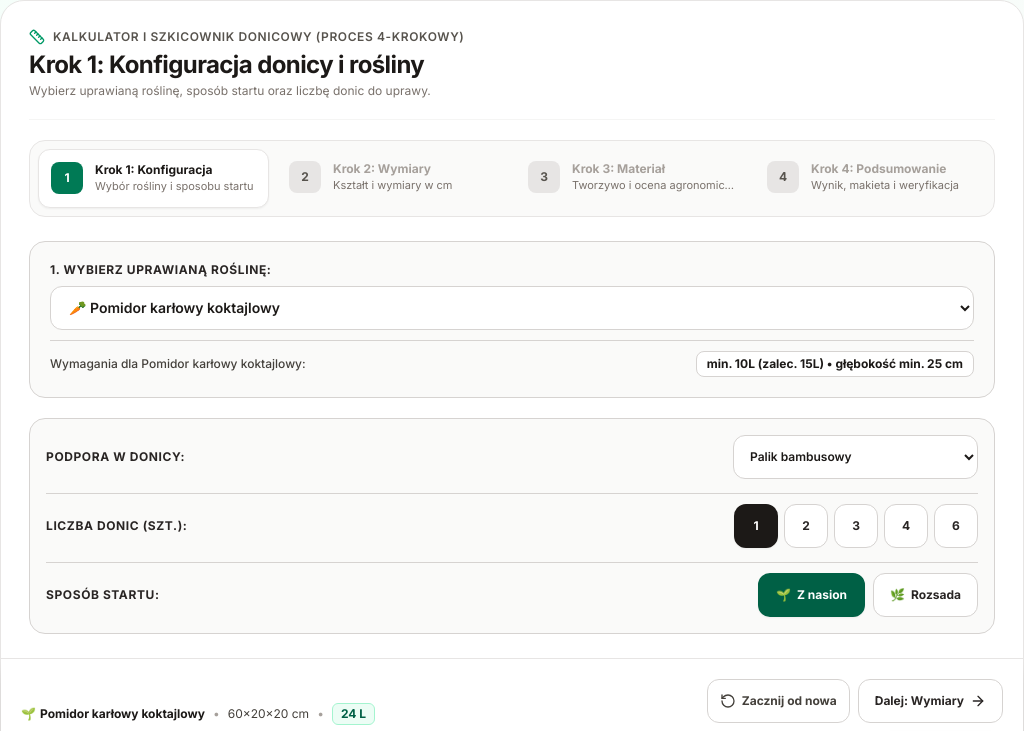
Test: PotCalculator - 4 Clear Steps, Accessible Accordions & Sticky Footer › renders primary results in a prominent summary card with rounded-2xl, border, and shadow-sm
# Navigate to step 4
Click the text "Krok 4: Podsumowanie": (885, 169) top-left (811, 161), bottom-right (959, 177)
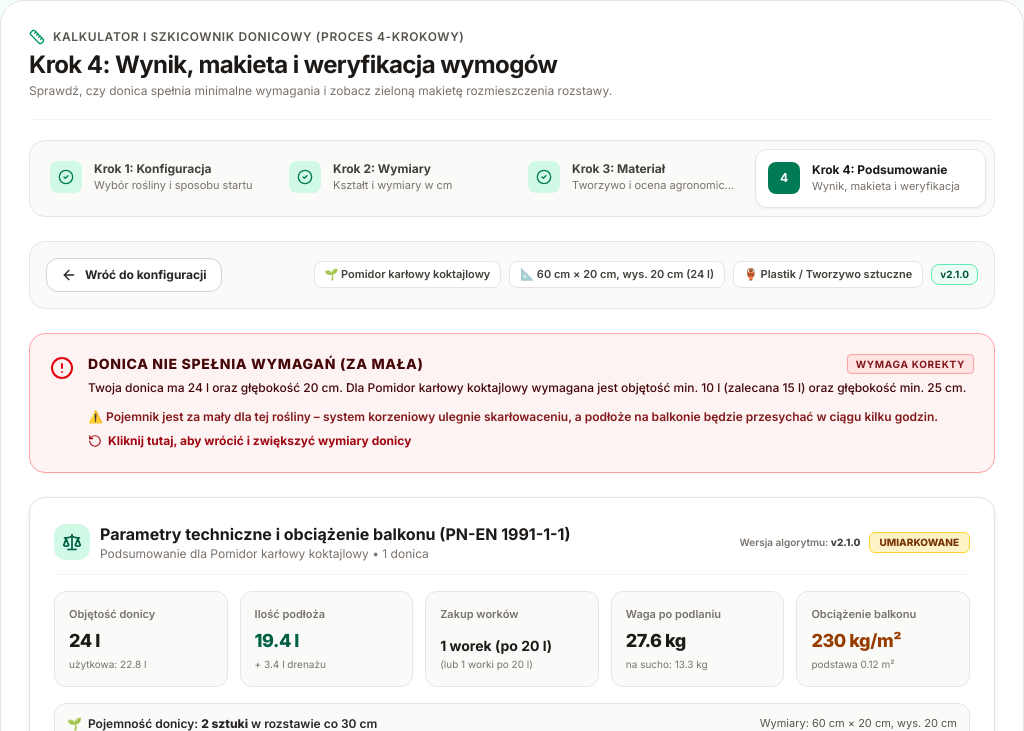
Expected: the text "Parametry techniczne i obciążenie balkonu" is shown, top-left (100, 524), bottom-right (570, 544)
Expected: the text "Objętość donicy" is shown, top-left (69, 607), bottom-right (155, 621)
Expected: the text "Ilość podłoża" is shown, top-left (255, 607), bottom-right (325, 621)
